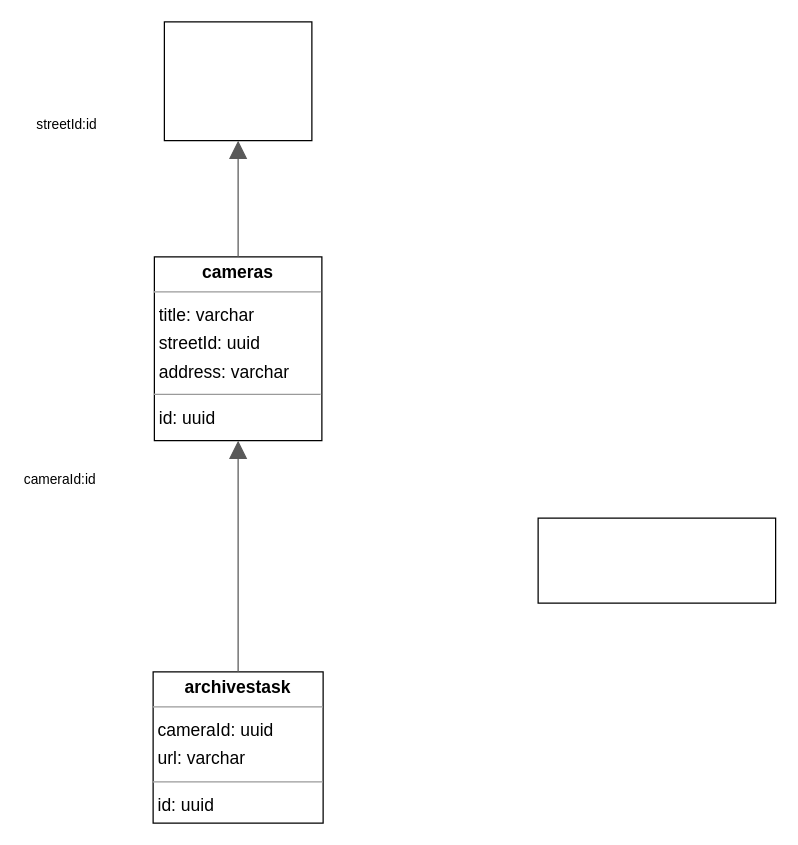
This 798x845 diagram has some shape labels left out. Each missing label, with the box of its shape:
alembic_version version_num: varchar(32): (537, 517, 776, 603)
streets name: varchar id: uuid: (163, 21, 312, 141)
